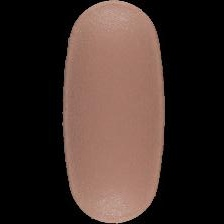10544-862: (0, 0, 224, 224)
